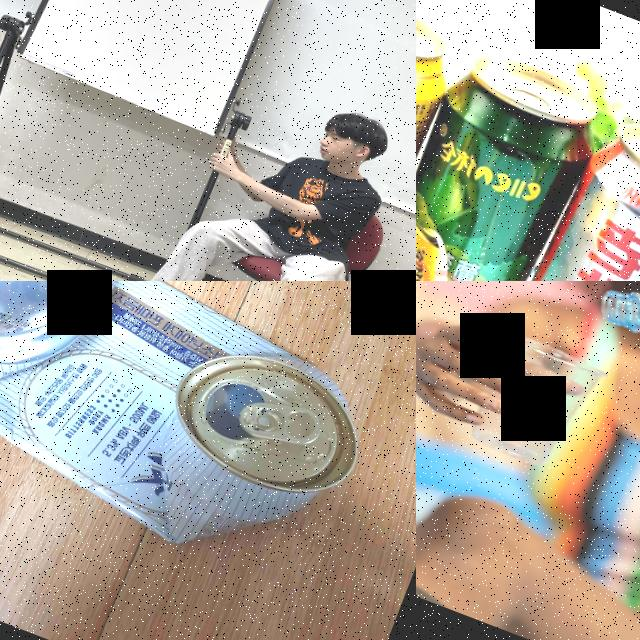can: (416, 32, 614, 281), (480, 103, 640, 281), (416, 0, 469, 236)
cup: (448, 323, 612, 482)
